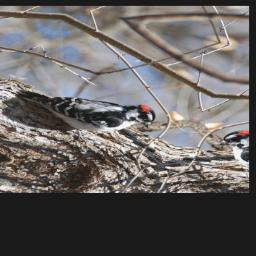Woodpecker: (1, 75, 168, 146)
